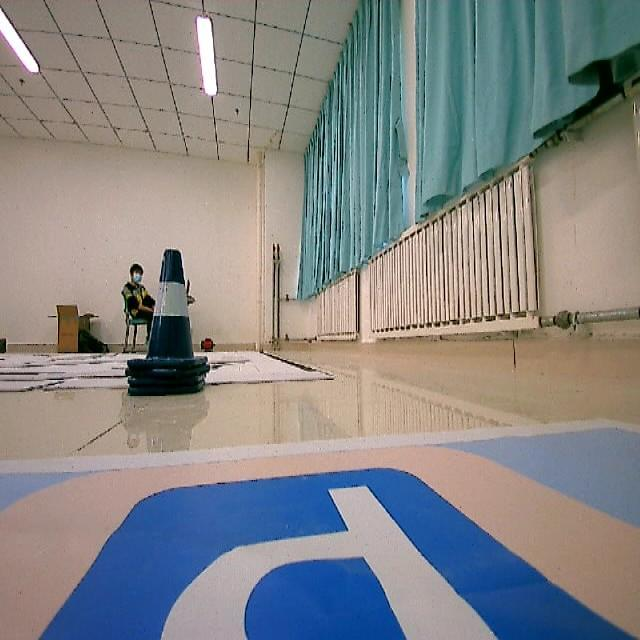obstacle: (125, 248, 217, 406)
